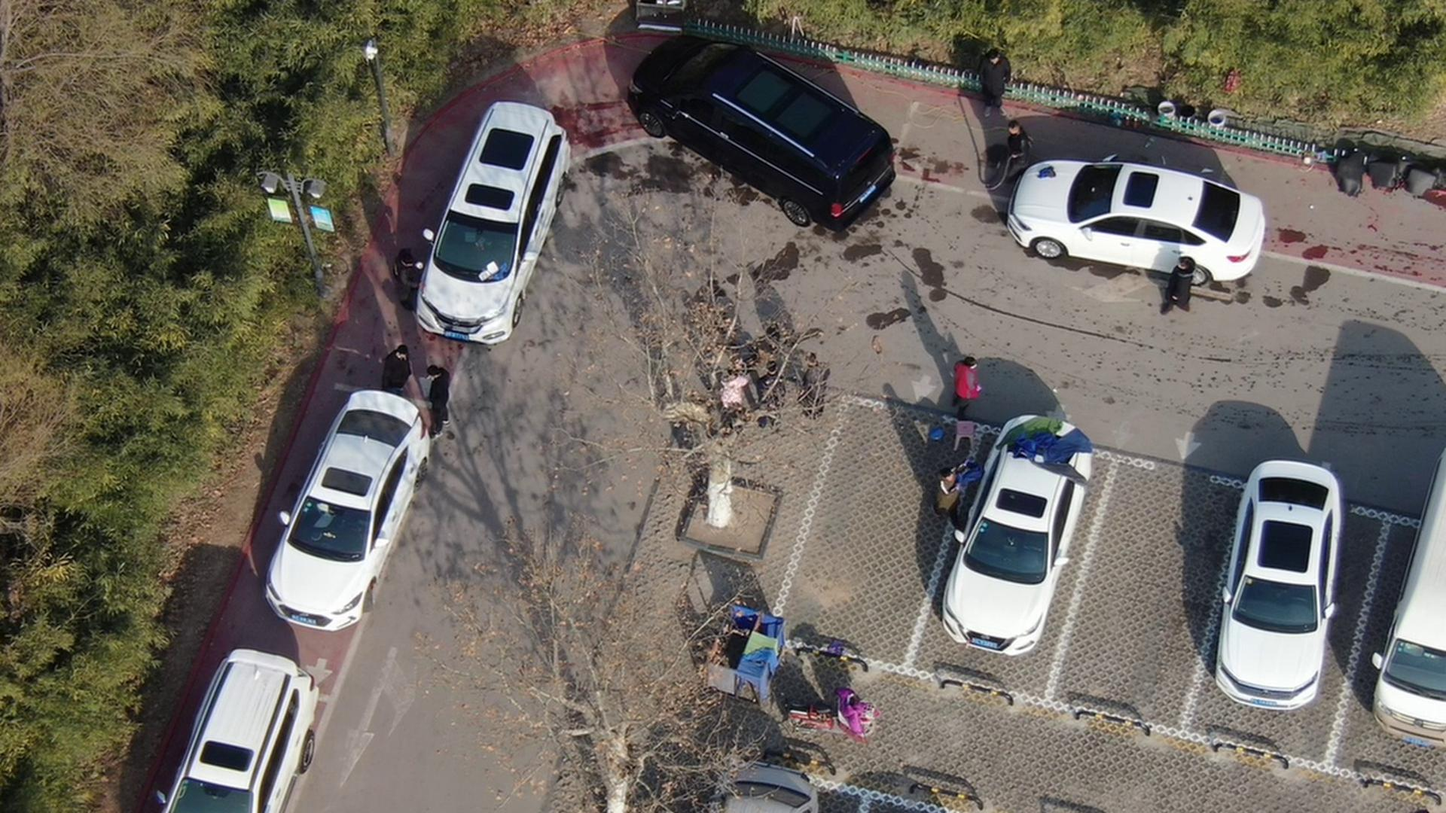human: (982, 43, 1022, 122), (796, 349, 834, 426), (953, 350, 990, 428), (429, 356, 459, 442), (1160, 254, 1198, 318), (383, 338, 422, 400), (760, 357, 795, 425), (396, 246, 429, 315), (1009, 121, 1042, 184), (932, 468, 965, 525)
